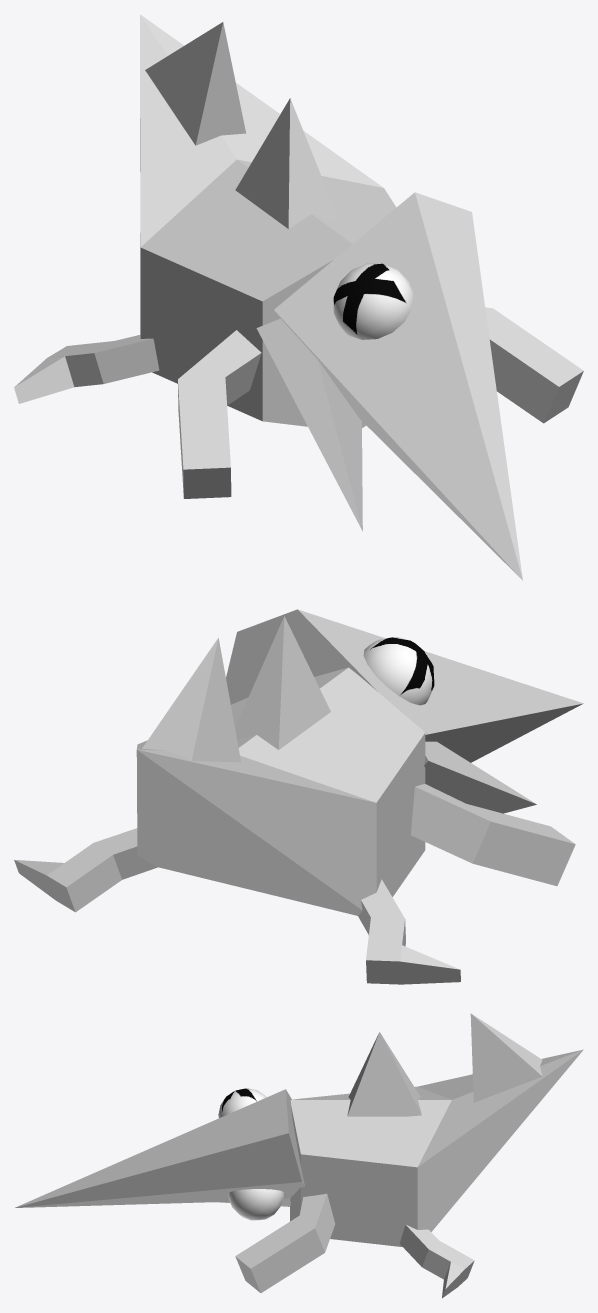
File: Ennemis_Barrack_Mort.FBX
3 renders of one model, top to bottom at view 1: azimuth 30°, elevation 25°; view 2: azimuth 150°, elevation 25°; view 3: azimuth 270°, elevation 25°, orthographic. The views are drawn at different scales.
Parts seen in each view (by area): view 1: Box724, Pyramid769, Box721, Pyramid767, Pyramid768, Pyramid766, Box722, Box720, Sphere277; view 2: Box724, Pyramid769, Box721, Pyramid766, Pyramid768, Box723, Box720, Pyramid767, Sphere277; view 3: Box724, Pyramid769, Box722, Pyramid766, Pyramid768, Box723, Sphere278, Sphere277.
Part boxes in pixels (x1,y1,x2,y2): Box724: (140, 14, 396, 427); Pyramid769: (274, 192, 522, 580); Box721: (178, 330, 261, 498); Pyramid767: (256, 318, 362, 531); Pyramid768: (145, 22, 246, 145); Pyramid766: (235, 98, 339, 228); Box722: (485, 307, 583, 423); Box720: (14, 334, 159, 403); Sphere277: (333, 263, 413, 339); Box724: (136, 667, 425, 915); Pyramid769: (226, 609, 583, 762); Box721: (410, 784, 575, 886); Pyramid766: (235, 616, 330, 749); Pyramid768: (142, 638, 241, 762); Box723: (14, 828, 157, 912); Box720: (358, 879, 460, 984); Pyramid767: (424, 741, 536, 813); Sphere277: (363, 637, 434, 705); Box724: (290, 1049, 583, 1246); Pyramid769: (15, 1089, 304, 1207); Box722: (235, 1193, 335, 1292); Pyramid766: (347, 1032, 421, 1116); Pyramid768: (470, 1013, 542, 1102); Box723: (399, 1224, 474, 1298); Sphere278: (228, 1189, 283, 1220); Sphere277: (218, 1088, 266, 1117).
Bounding box in the file's own units: 328 × 220 × 524.
